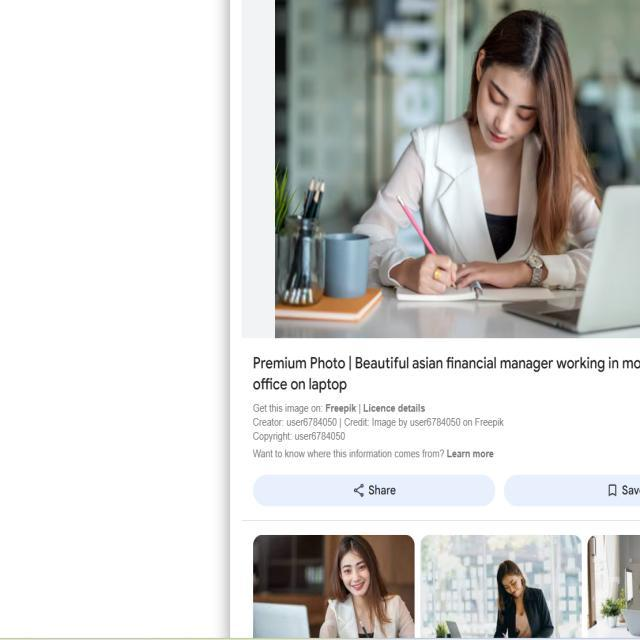face_no_mask: (474, 48, 536, 150), (342, 552, 370, 594)
